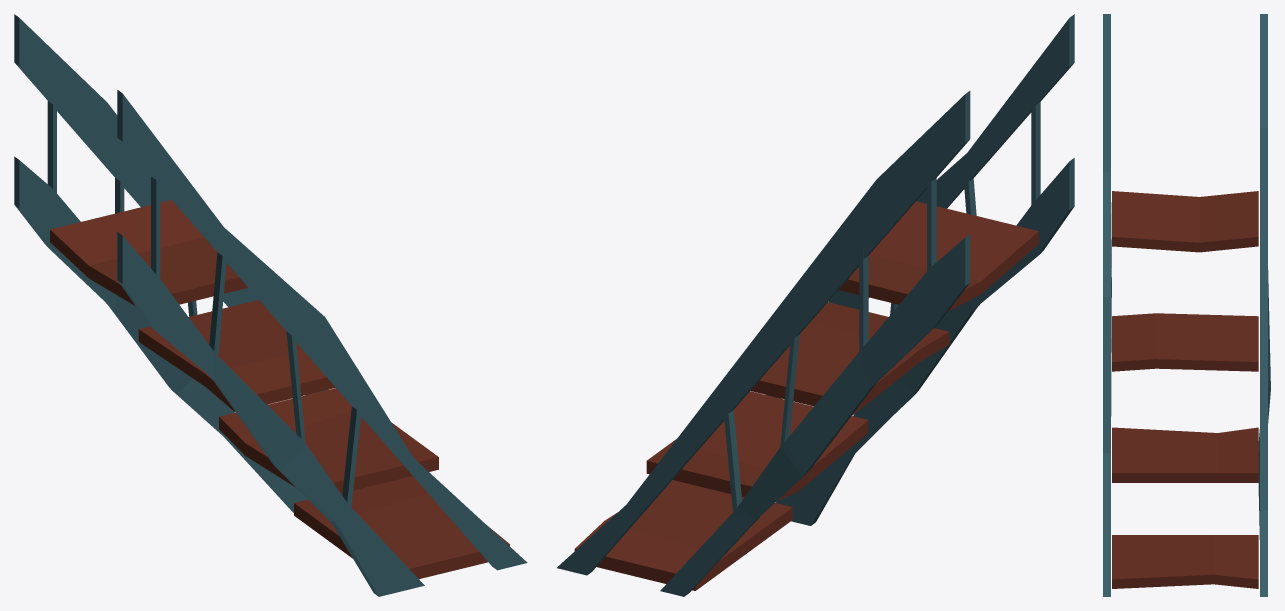
The model's file is ladder.fbx.
The picture shows the model from 3 angles, left to right: view 1: azimuth 30°, elevation 25°; view 2: azimuth 150°, elevation 25°; view 3: azimuth 270°, elevation 25°; orthographic projection. The views are drawn at different scales.
Parts seen in each view (by area): view 1: Ladder; view 2: Ladder; view 3: Ladder.
Boxes of the visible parts, bbox=[...] form: Ladder: bbox=[14, 14, 527, 596]; Ladder: bbox=[557, 14, 1074, 596]; Ladder: bbox=[1103, 14, 1270, 596].
Size of the model in its own units: 172 by 230 by 80.97.
